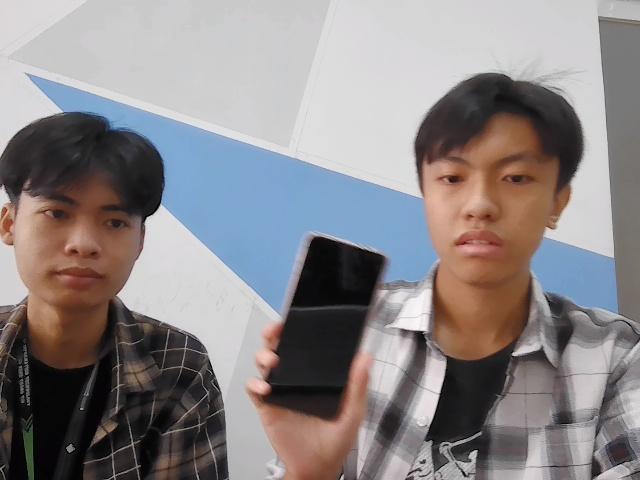human: (3, 112, 170, 312), (418, 73, 572, 283)
phone: (257, 222, 387, 422)
